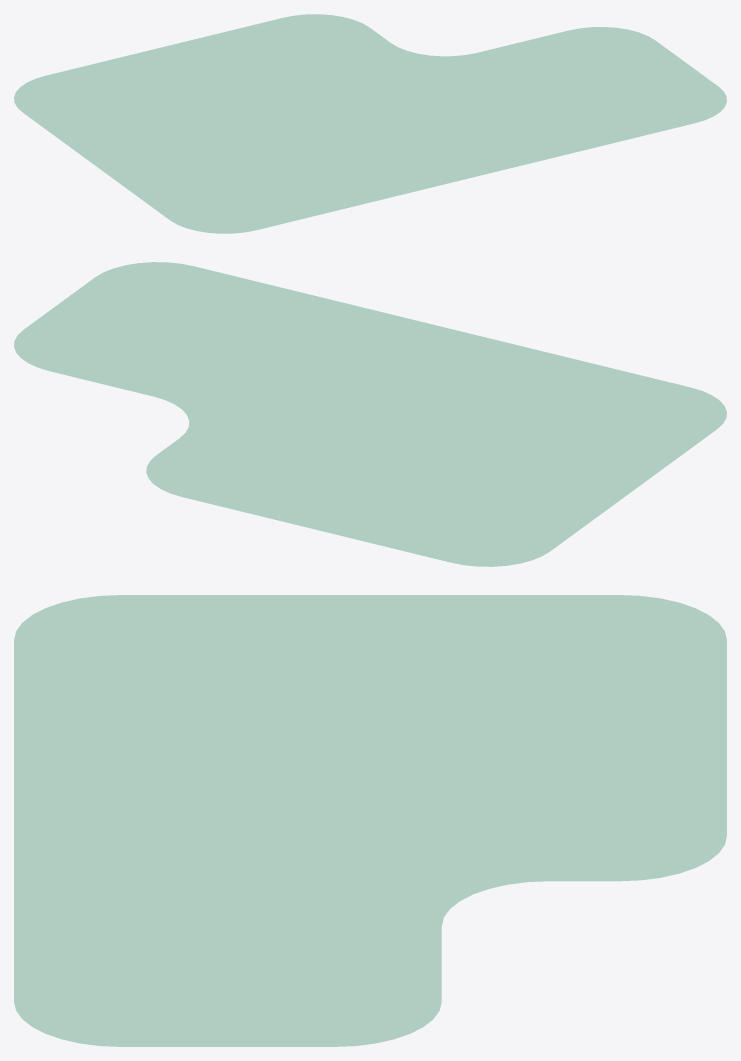
File: example.gltf
The picture shows the model from 3 angles, top to bottom: view 1: azimuth 30°, elevation 25°; view 2: azimuth 150°, elevation 25°; view 3: azimuth 270°, elevation 25°; orthographic projection. The views are drawn at different scales.
Parts seen in each view (by area): view 1: filleted_outline; view 2: filleted_outline; view 3: filleted_outline.
Boxes of the visible parts, x1=… form: filleted_outline: x1=14, y1=14, x2=726, y2=233; filleted_outline: x1=14, y1=262, x2=726, y2=566; filleted_outline: x1=14, y1=595, x2=726, y2=1046.
Bounding box in the file's own units: 3 × 0 × 2.
